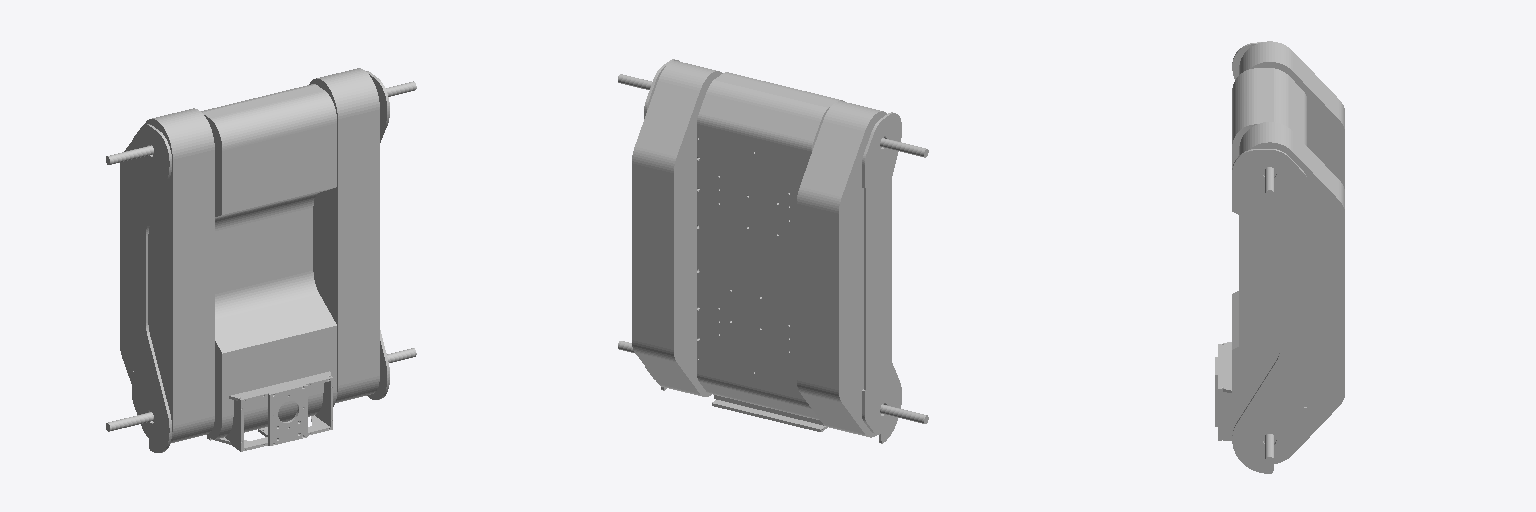
Rendered from chasis.obj.
3 views of the same model, side by side, from view 1: azimuth 30°, elevation 25°; view 2: azimuth 150°, elevation 25°; view 3: azimuth 270°, elevation 25° (orthographic).
Parts seen in each view (by area): view 1: Object.3, Object.2, Object.1, Object.5, Object.4; view 2: Object.3, Object.2, Object.1, Object.5; view 3: Object.1, Object.4, Object.3, Object.2.
Part boxes in pixels (left/top/right/bottom): Object.3: left=201, top=84, right=336, bottom=451; Object.2: left=106, top=108, right=214, bottom=443; Object.1: left=309, top=68, right=416, bottom=402; Object.5: left=132, top=124, right=171, bottom=452; Object.4: left=366, top=71, right=389, bottom=399; Object.3: left=697, top=72, right=844, bottom=431; Object.2: left=797, top=101, right=928, bottom=437; Object.1: left=618, top=61, right=722, bottom=396; Object.5: left=862, top=112, right=901, bottom=443; Object.1: left=1239, top=122, right=1344, bottom=464; Object.4: left=1232, top=149, right=1306, bottom=473; Object.3: left=1215, top=68, right=1306, bottom=440; Object.2: left=1239, top=41, right=1344, bottom=188.
Size of the model in its own units: 728 by 745 by 269.